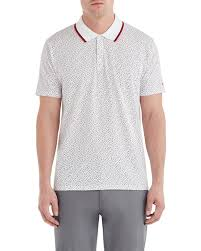C_polo shirt: (32, 23, 170, 190)
